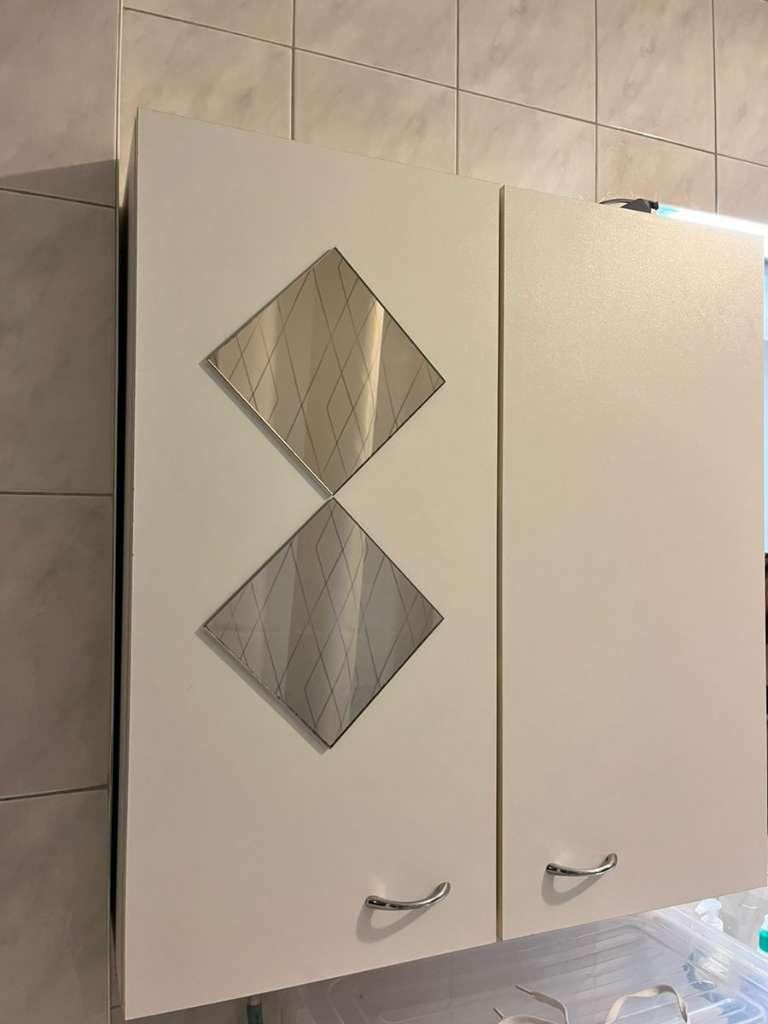cabinet_door: (140, 143, 497, 990), (500, 210, 768, 912)
handle: (357, 878, 455, 934), (540, 846, 622, 896)
